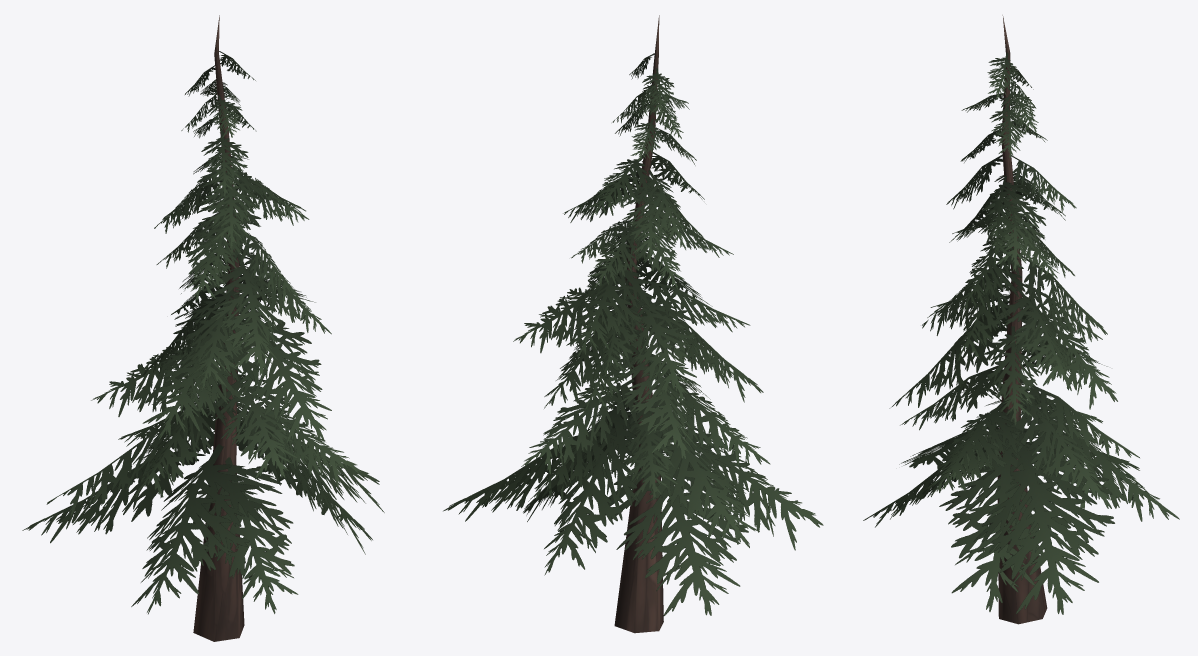
File: Pine Tree 05.fbx
3 views of the same model, side by side, from view 1: azimuth 30°, elevation 25°; view 2: azimuth 150°, elevation 25°; view 3: azimuth 270°, elevation 25° (orthographic). The views are drawn at different scales.
Parts seen in each view (by area): view 1: pine_tree_05_m_LOD0; view 2: pine_tree_05_m_LOD0; view 3: pine_tree_05_m_LOD0.
Boxes of the visible parts, x1,y1,x2,y2 form: pine_tree_05_m_LOD0: [22, 15, 384, 641]; pine_tree_05_m_LOD0: [443, 15, 823, 633]; pine_tree_05_m_LOD0: [863, 15, 1179, 624].
Size of what is drawn, in the model's own units: 619 by 1081 by 539.
